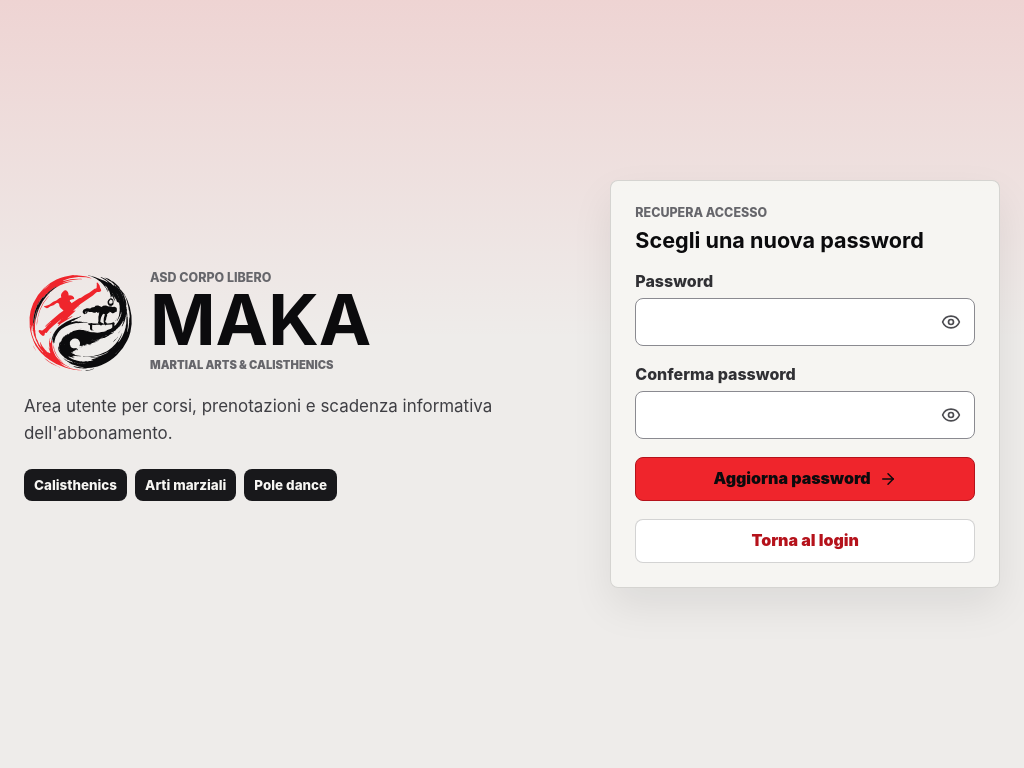
App › sets a new password from a recovery link
The image size is (1024, 768).
Expected: the heading "Scegli una nuova password" is shown, [635,227,924,253]
Type "NuovaPassword123!" into the password field labelled "Password". click: (805, 322)
box: [635,298,975,346]
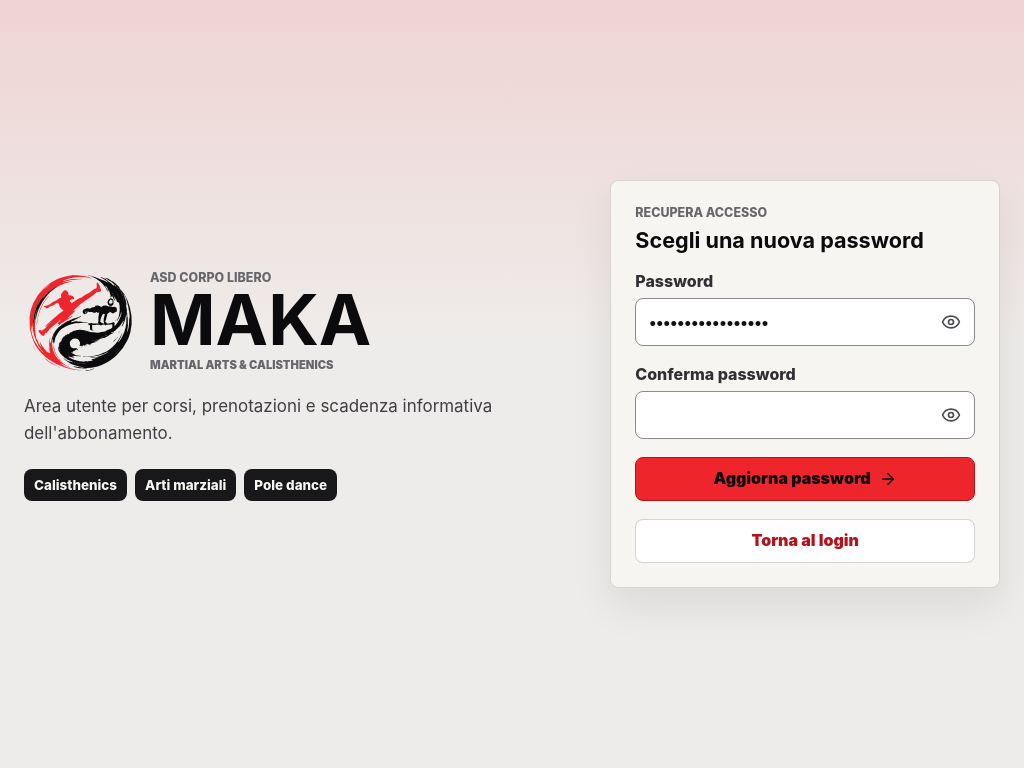
Type "NuovaPassword123!" into the password field labelled "Conferma password". click: (805, 415)
box: [635,391,975,439]
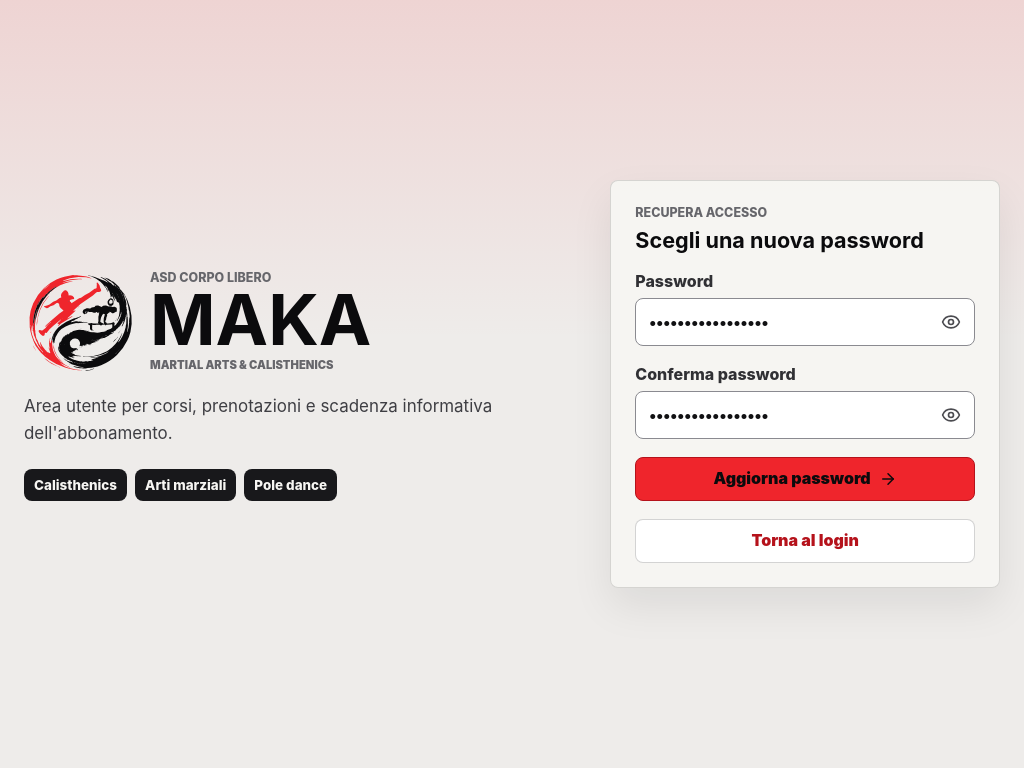
Click the button "Aggiorna password". click: (805, 479)
box: [635,457,975,501]
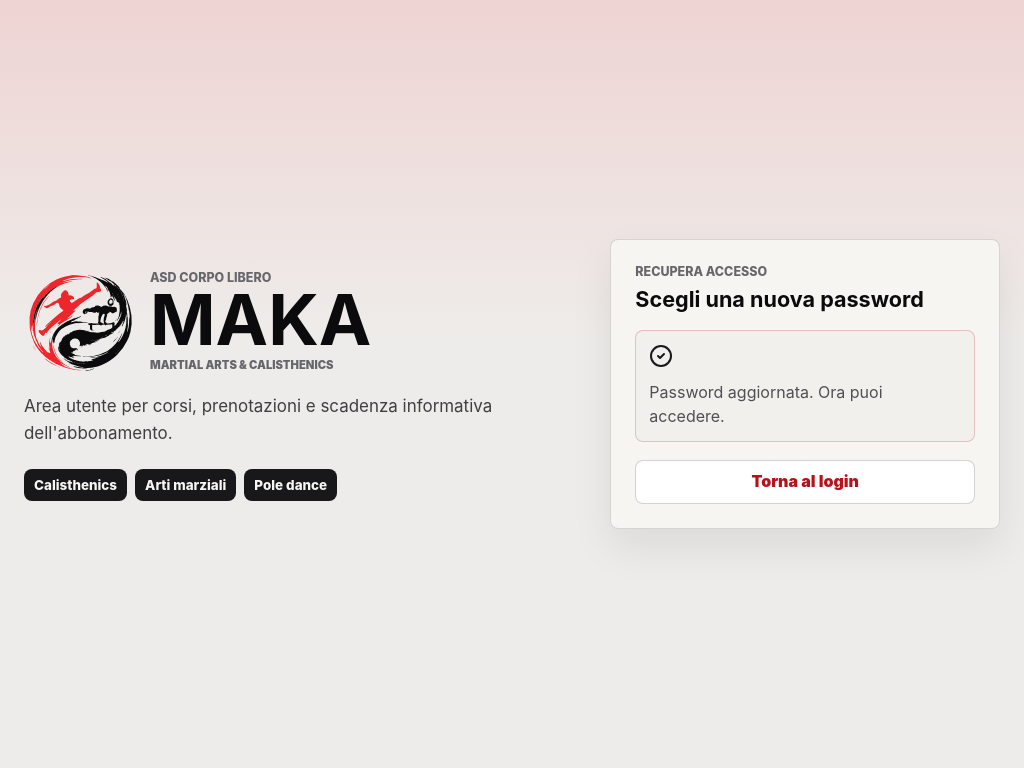
Expected: the text "Password aggiornata. Ora puoi accedere." is shown, [649,382,882,426]
